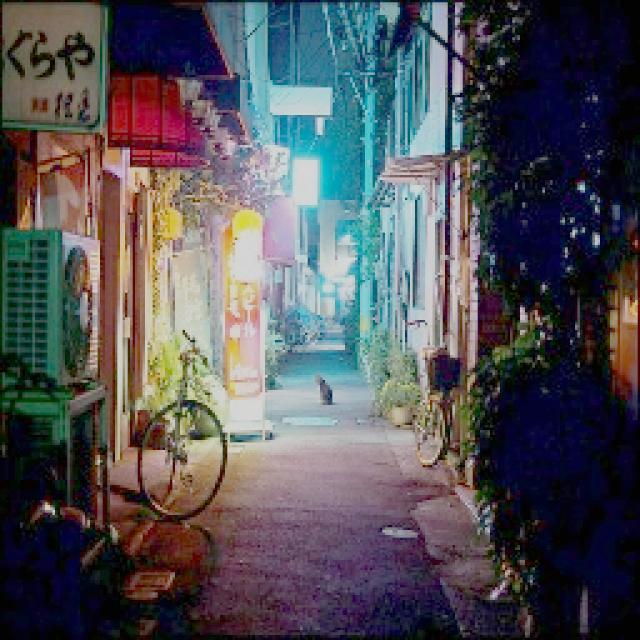cat: (310, 371, 340, 411)
